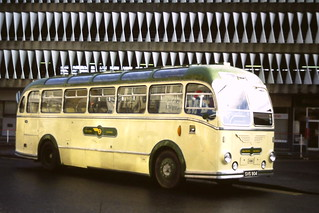bus: (14, 63, 275, 189)
